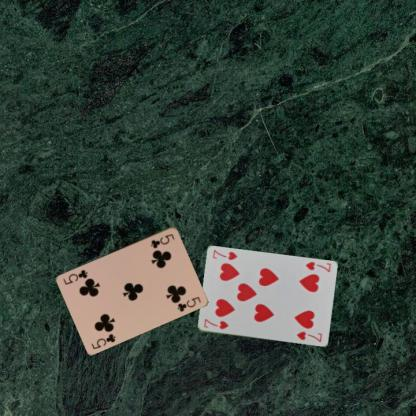5c: (148, 231, 176, 250), (89, 331, 117, 350)
7h: (201, 316, 229, 331), (302, 259, 332, 273)
